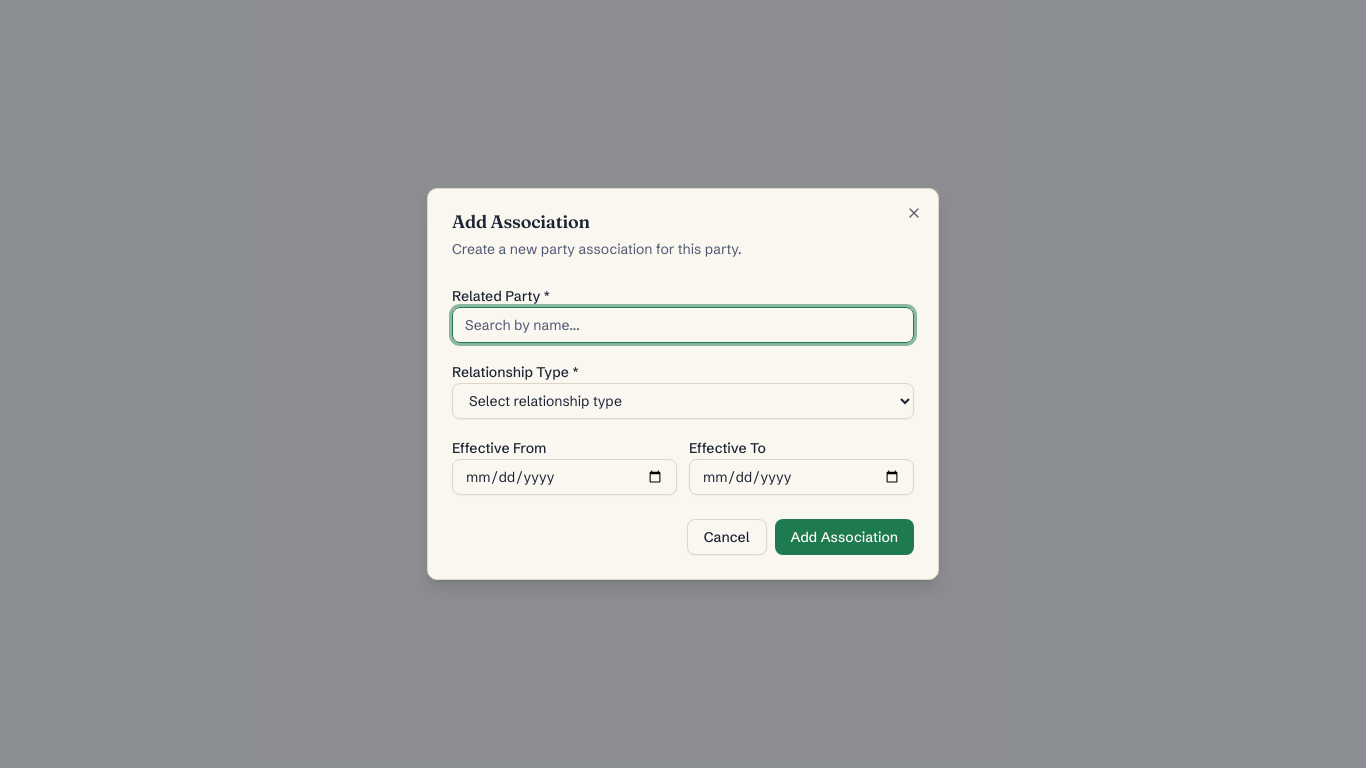
Test case: RegisterAssociationsDialog - party search › allows selecting a party from results
Step 1. Type "Ac" into the dropdown labelled "Related Party *" → (683, 325), box [452,307,914,343]
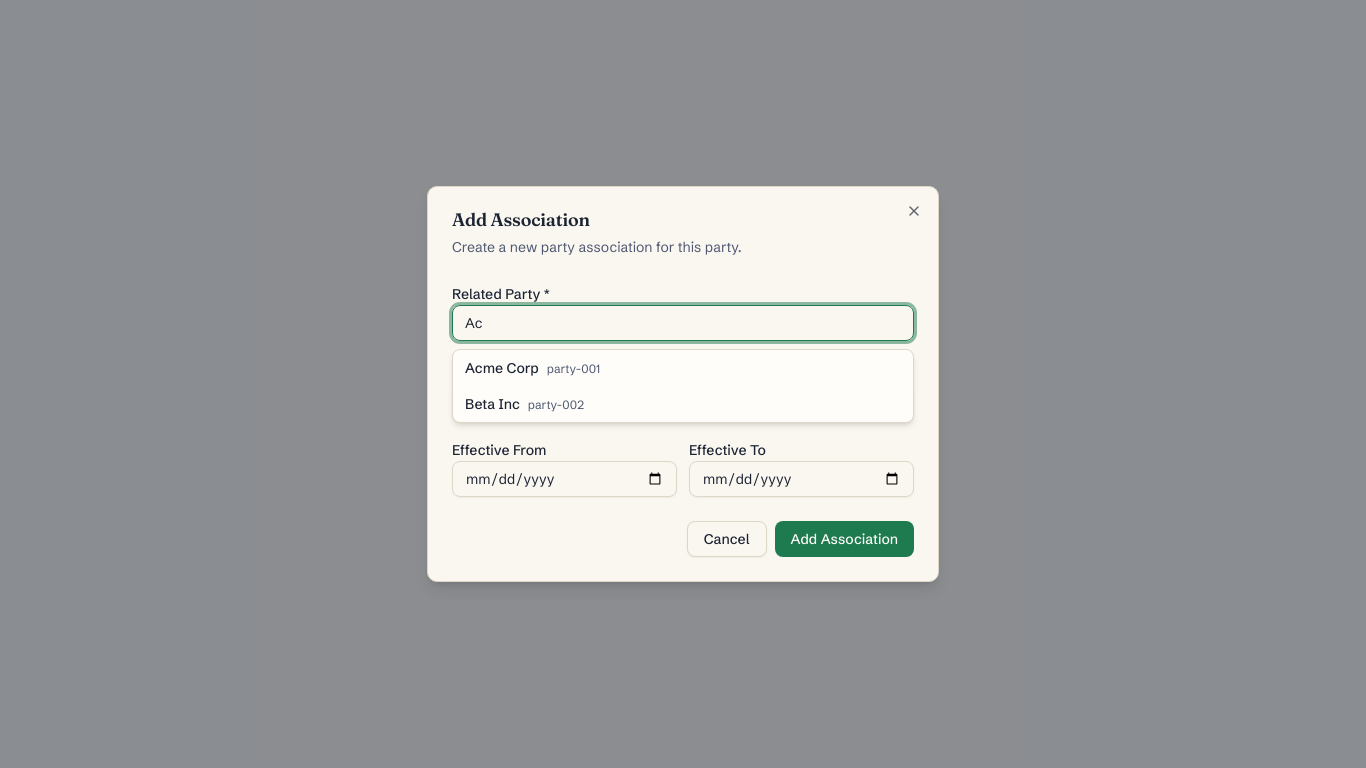
Expected: the text "Acme Corp" is shown
Step 2. Click the text "Acme Corp" → (502, 368), box [465,359,539,377]
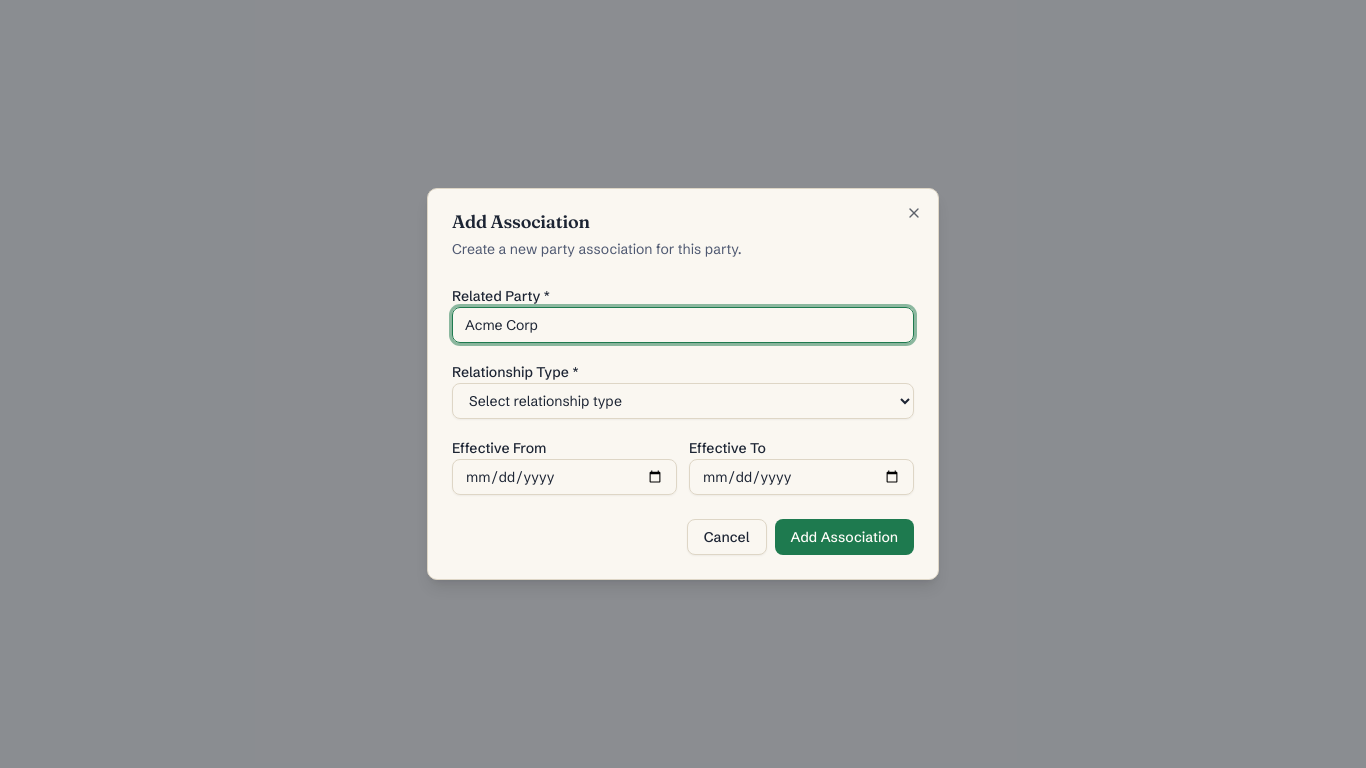
Expected: the dropdown labelled "Related Party *" holds "Acme Corp", [452,307,914,343]
